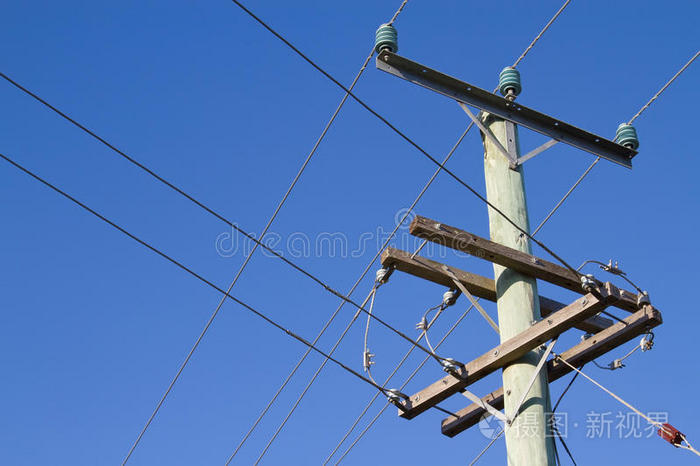insulator: (375, 25, 397, 51), (499, 68, 521, 94), (616, 124, 639, 147)
